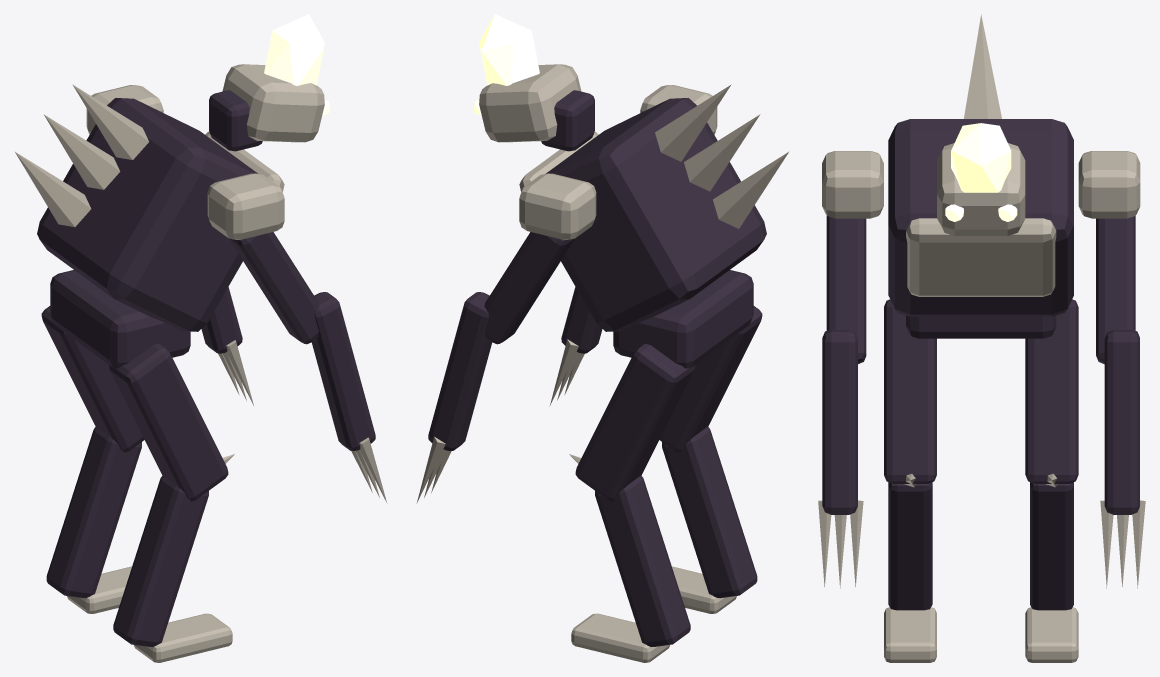
Rendered from husk_enemy.glb.
The picture shows the model from 3 angles, left to right: view 1: azimuth 30°, elevation 25°; view 2: azimuth 150°, elevation 25°; view 3: azimuth 270°, elevation 25°; orthographic projection. The views are drawn at different scales.
Parts seen in each view (by area): view 1: torso, thigh-1, shin1, shin-1, pelvis, skull, forearm-1, upper_arm-1, thigh1, shoulder-1, crit_crystal, foot-1 (+8 smaller); view 2: torso, thigh1, shin1, shin-1, pelvis, skull, forearm1, upper_arm1, thigh-1, shoulder1, crit_crystal, foot1 (+8 smaller); view 3: torso, chest_plate, thigh1, thigh-1, forearm-1, forearm1, shin-1, shin1, upper_arm-1, skull, upper_arm1, shoulder1 (+12 smaller).
Part boxes in pixels (left/top/right/bottom): torso: left=37, top=98, right=257, bottom=331; thigh-1: left=108, top=343, right=228, bottom=501; shin1: left=46, top=427, right=141, bottom=598; shin-1: left=113, top=476, right=208, bottom=646; pelvis: left=50, top=270, right=190, bottom=368; skull: left=222, top=64, right=324, bottom=142; forearm-1: left=311, top=292, right=375, bottom=451; upper_arm-1: left=229, top=232, right=319, bottom=344; thigh1: left=41, top=306, right=144, bottom=452; shoulder-1: left=207, top=173, right=284, bottom=239; crit_crystal: left=264, top=14, right=324, bottom=85; foot-1: left=134, top=613, right=232, bottom=662; torso: left=546, top=98, right=766, bottom=331; thigh1: left=575, top=343, right=695, bottom=501; shin1: left=595, top=476, right=690, bottom=646; shin-1: left=662, top=427, right=757, bottom=598; pelvis: left=613, top=270, right=753, bottom=368; skull: left=479, top=64, right=581, bottom=142; forearm1: left=428, top=292, right=492, bottom=451; upper_arm1: left=484, top=232, right=574, bottom=344; thigh-1: left=659, top=306, right=762, bottom=452; shoulder1: left=519, top=173, right=596, bottom=239; crit_crystal: left=479, top=14, right=539, bottom=85; foot1: left=571, top=613, right=669, bottom=662; torso: left=888, top=119, right=1073, bottom=316; chest_plate: left=906, top=218, right=1056, bottom=296; thigh1: left=1025, top=299, right=1078, bottom=483; thigh-1: left=884, top=299, right=936, bottom=483; forearm-1: left=822, top=329, right=857, bottom=514; forearm1: left=1104, top=329, right=1139, bottom=514; shin-1: left=888, top=482, right=932, bottom=610; shin1: left=1030, top=482, right=1073, bottom=610; upper_arm-1: left=826, top=215, right=866, bottom=363; skull: left=937, top=143, right=1025, bottom=235; upper_arm1: left=1096, top=216, right=1135, bottom=364; shoulder1: left=1078, top=151, right=1140, bottom=218.
Bounding box in the file's own units: 0.8592 × 1.51 × 0.7406.
